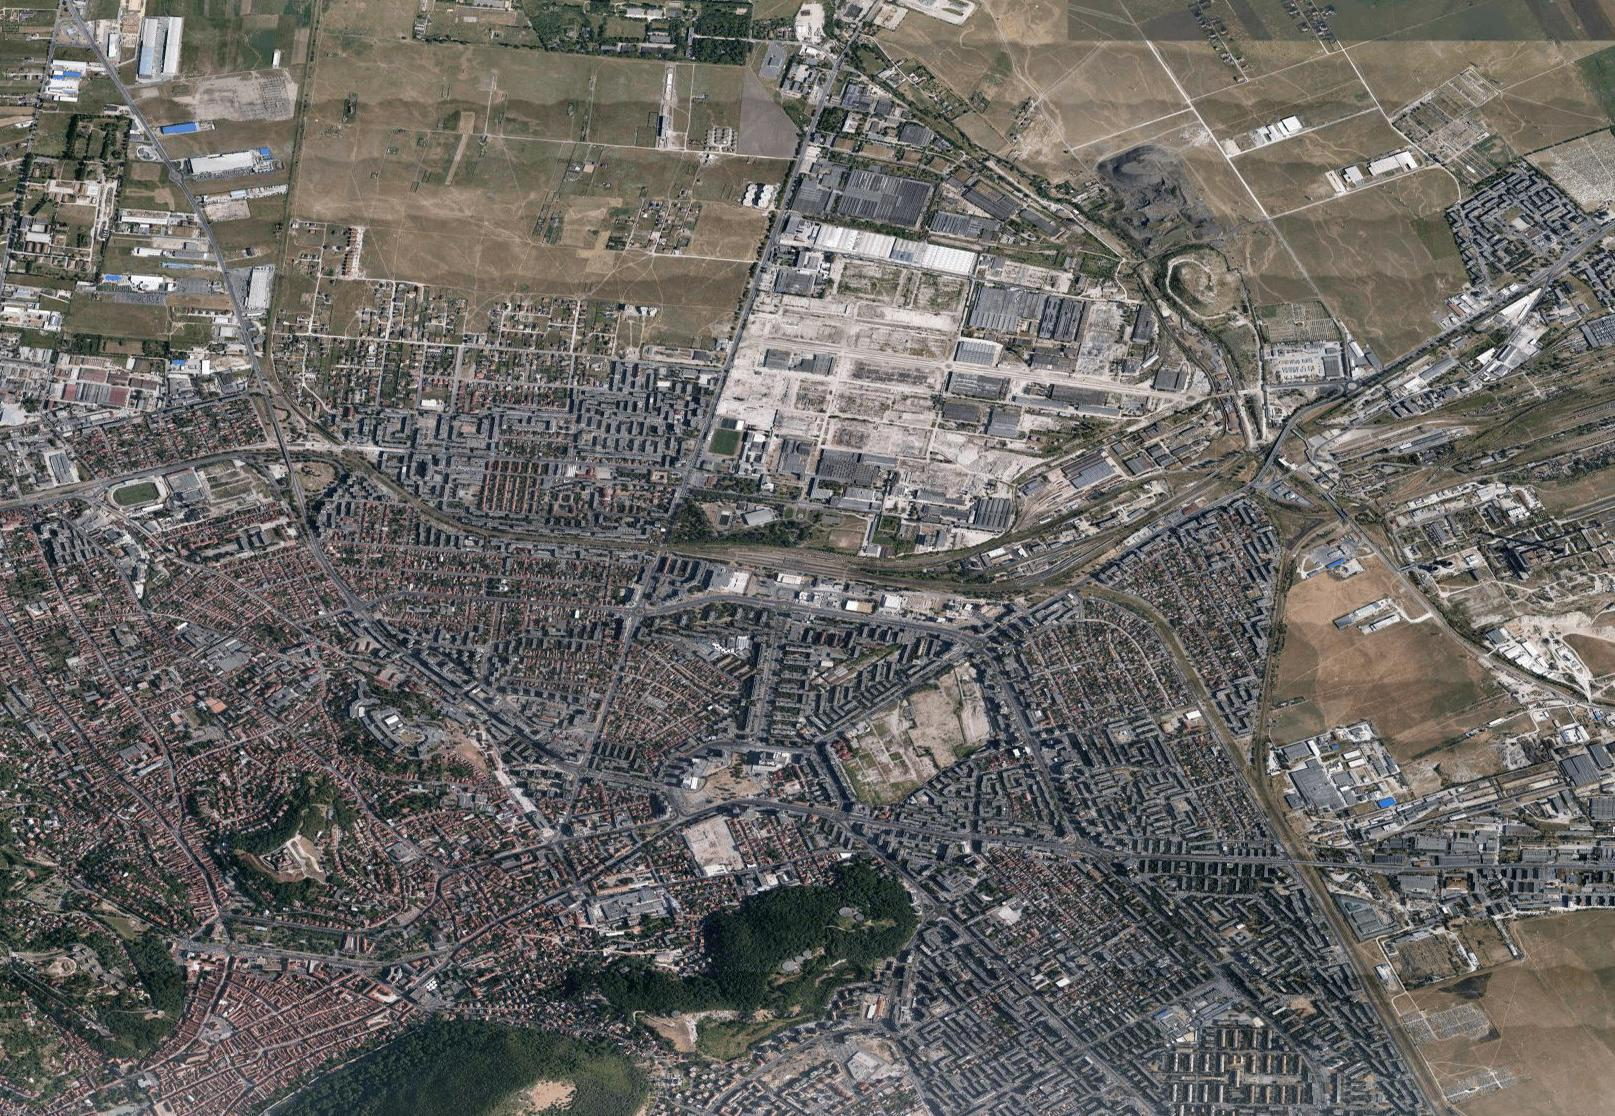train_station: (719, 541, 858, 578)
